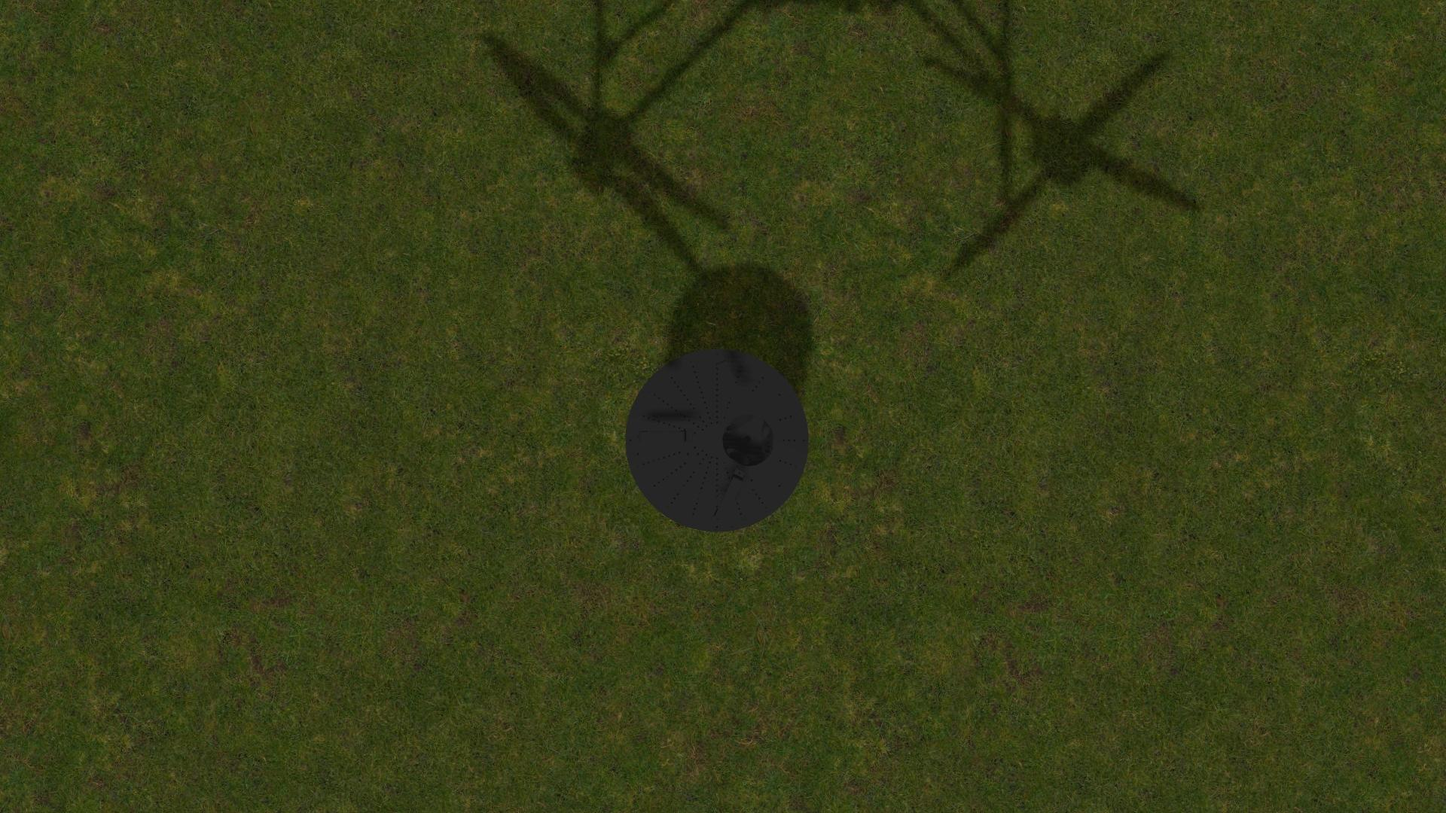alca: (711, 468, 746, 524), (714, 356, 745, 410), (636, 430, 693, 444)
armadilha: (625, 348, 809, 532)
